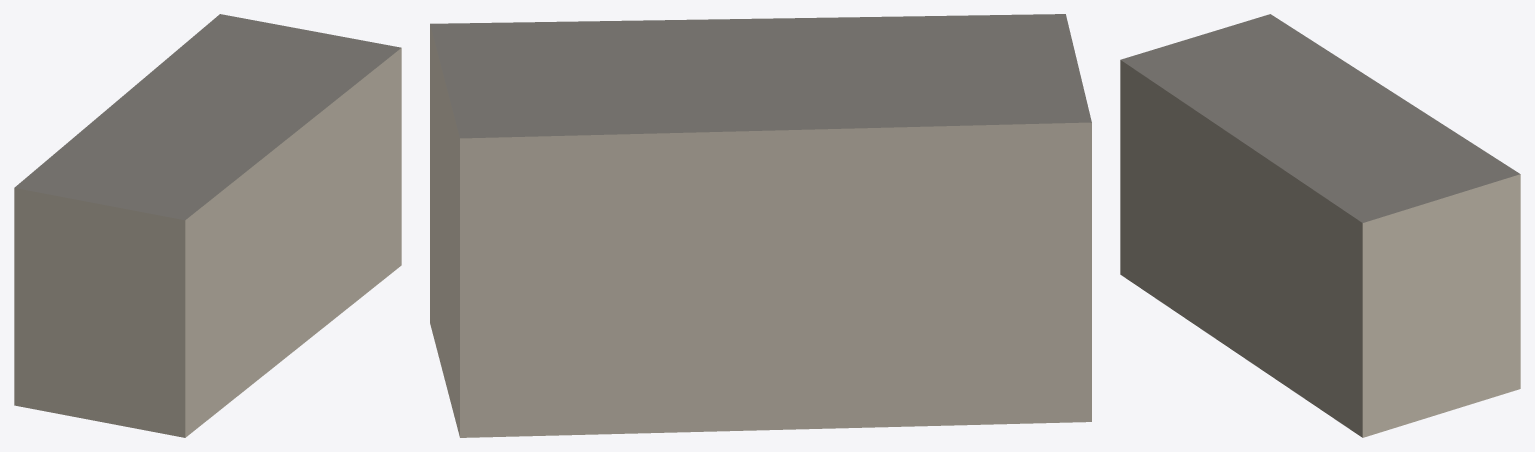
3 views of the same model, side by side, from view 1: azimuth 30°, elevation 25°; view 2: azimuth 150°, elevation 25°; view 3: azimuth 270°, elevation 25° (orthographic). The views are drawn at different scales.
Parts seen in each view (by area): view 1: HP-w505633374; view 2: HP-w505633374; view 3: HP-w505633374.
Boxes of the visible parts, x1,y1,x2,y2 form: HP-w505633374: (14, 14, 401, 437); HP-w505633374: (430, 14, 1091, 437); HP-w505633374: (1120, 14, 1520, 437).
Bounding box in the file's own units: 37.58 × 18 × 30.39.
